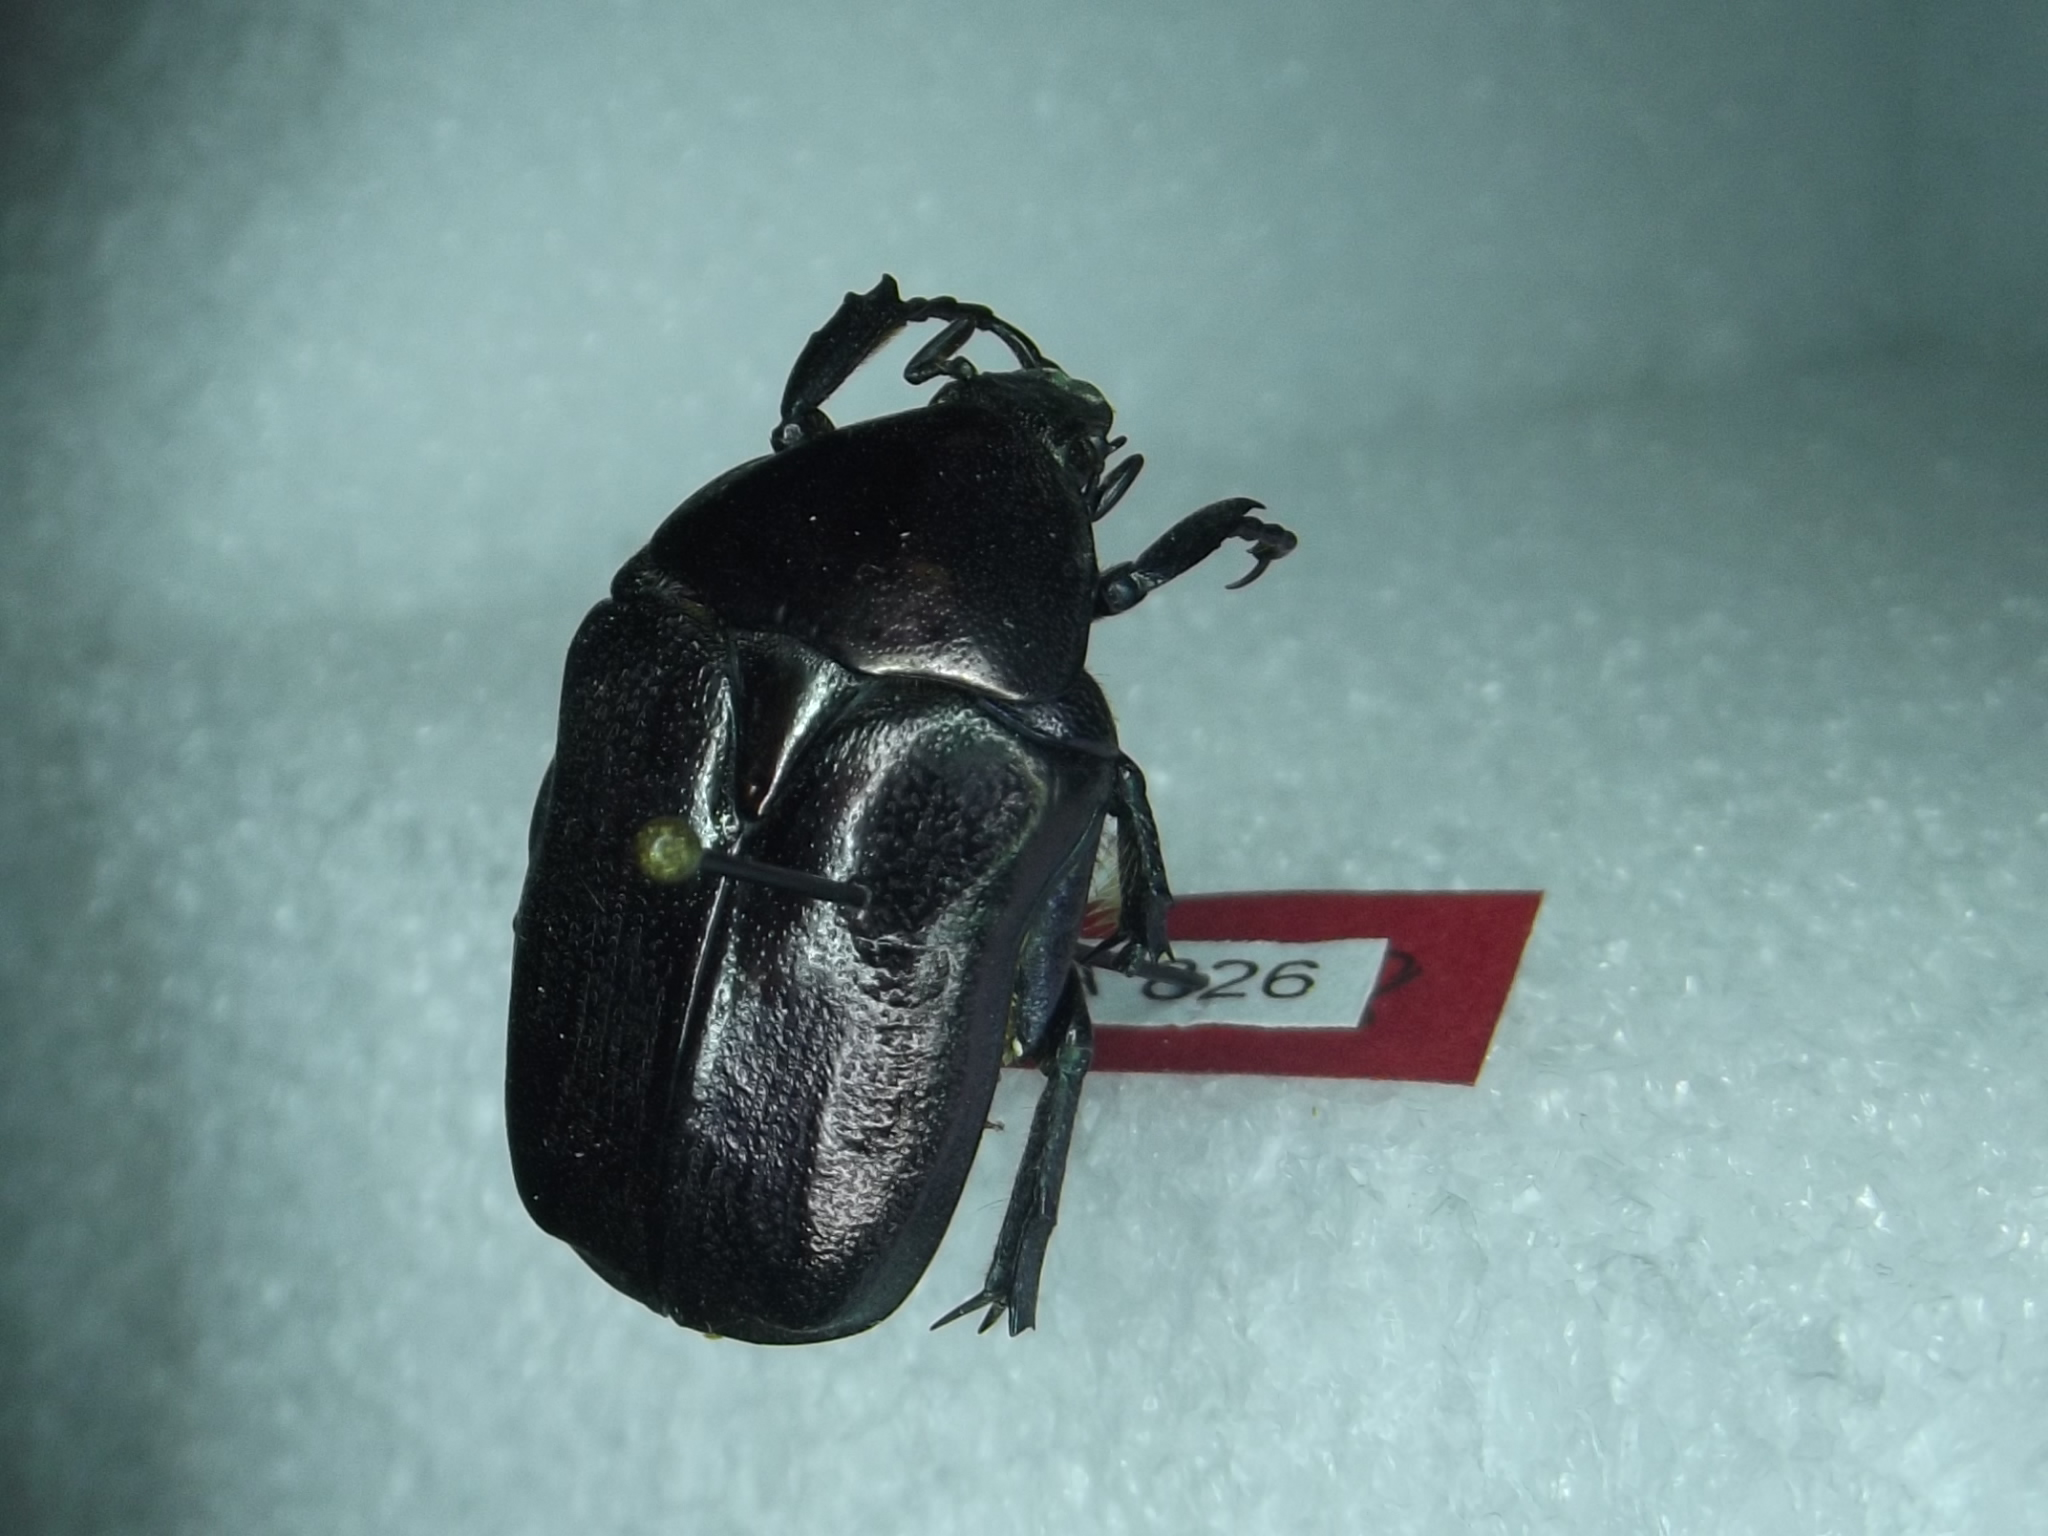Protaetia_besucheti: (481, 245, 1303, 1383)
